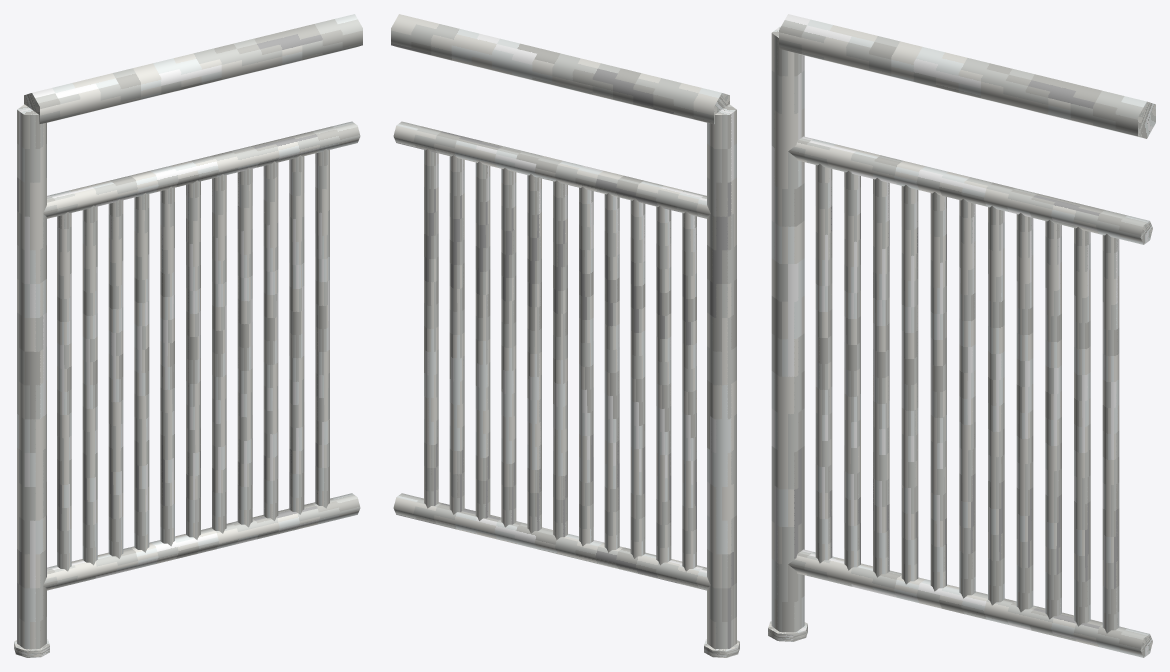
Rendered from middle.obj.
The picture shows the model from 3 angles, left to right: view 1: azimuth 30°, elevation 25°; view 2: azimuth 150°, elevation 25°; view 3: azimuth 330°, elevation 25°; orthographic projection. The views are drawn at different scales.
Parts seen in each view (by area): view 1: 贝塞尔曲线.032, 贝塞尔曲线.015, 贝塞尔曲线.033, 贝塞尔曲线.035, 贝塞尔曲线.023, 贝塞尔曲线.024, 贝塞尔曲线.027, 贝塞尔曲线.028, 贝塞尔曲线.022, 贝塞尔曲线.029, 贝塞尔曲线.031, 贝塞尔曲线.021 (+3 smaller); view 2: 贝塞尔曲线.032, 贝塞尔曲线.015, 贝塞尔曲线.033, 贝塞尔曲线.035, 贝塞尔曲线.023, 贝塞尔曲线.024, 贝塞尔曲线.027, 贝塞尔曲线.028, 贝塞尔曲线.022, 贝塞尔曲线.029, 贝塞尔曲线.031, 贝塞尔曲线.021 (+3 smaller); view 3: 贝塞尔曲线.032, 贝塞尔曲线.015, 贝塞尔曲线.033, 贝塞尔曲线.035, 贝塞尔曲线.025, 贝塞尔曲线.026, 贝塞尔曲线.029, 贝塞尔曲线.022, 贝塞尔曲线.024, 贝塞尔曲线.021, 贝塞尔曲线.023, 贝塞尔曲线.027 (+3 smaller).
Part boxes in pixels (x1,y1,x2,y2): 贝塞尔曲线.032: [17, 104, 46, 648]; 贝塞尔曲线.015: [24, 14, 362, 123]; 贝塞尔曲线.033: [43, 121, 360, 218]; 贝塞尔曲线.035: [43, 493, 360, 590]; 贝塞尔曲线.023: [108, 199, 123, 558]; 贝塞尔曲线.024: [82, 205, 97, 565]; 贝塞尔曲线.027: [289, 155, 304, 514]; 贝塞尔曲线.028: [263, 161, 278, 520]; 贝塞尔曲线.022: [134, 193, 149, 552]; 贝塞尔曲线.029: [237, 168, 252, 527]; 贝塞尔曲线.031: [186, 180, 200, 539]; 贝塞尔曲线.021: [160, 186, 174, 546]; 贝塞尔曲线.032: [707, 104, 736, 648]; 贝塞尔曲线.015: [391, 14, 729, 123]; 贝塞尔曲线.033: [393, 121, 710, 218]; 贝塞尔曲线.035: [393, 493, 710, 590]; 贝塞尔曲线.023: [630, 199, 645, 558]; 贝塞尔曲线.024: [656, 205, 671, 565]; 贝塞尔曲线.027: [449, 155, 464, 514]; 贝塞尔曲线.028: [475, 161, 490, 520]; 贝塞尔曲线.022: [604, 193, 619, 552]; 贝塞尔曲线.029: [501, 168, 516, 527]; 贝塞尔曲线.031: [553, 180, 567, 539]; 贝塞尔曲线.021: [579, 186, 593, 546]; 贝塞尔曲线.032: [771, 26, 804, 631]; 贝塞尔曲线.015: [779, 14, 1155, 138]; 贝塞尔曲线.033: [788, 136, 1152, 244]; 贝塞尔曲线.035: [788, 549, 1152, 657]; 贝塞尔曲线.025: [815, 164, 832, 563]; 贝塞尔曲线.026: [1102, 234, 1119, 633]; 贝塞尔曲线.029: [1016, 213, 1033, 612]; 贝塞尔曲线.022: [901, 185, 918, 584]; 贝塞尔曲线.024: [844, 171, 860, 570]; 贝塞尔曲线.021: [930, 192, 946, 591]; 贝塞尔曲线.023: [873, 178, 889, 577]; 贝塞尔曲线.027: [1074, 227, 1090, 626].
Bounding box in the file's own units: 1.05 × 1.65 × 0.1.
1 material, 1 textured.
